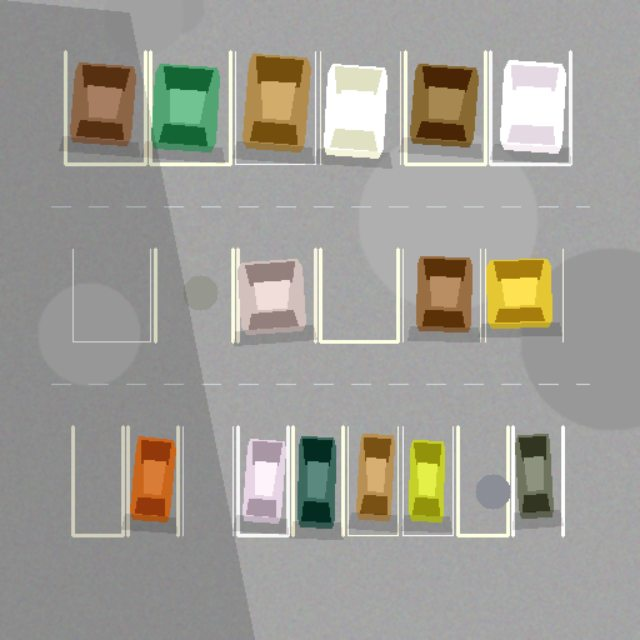space-empty: (72, 249, 150, 341), (320, 249, 398, 341), (155, 249, 232, 341), (73, 426, 123, 535), (183, 426, 233, 535), (457, 426, 507, 535)
space-occupied: (65, 51, 145, 164), (150, 51, 230, 164), (235, 51, 315, 164), (320, 51, 400, 164), (405, 51, 485, 164), (490, 51, 570, 164), (402, 249, 480, 341), (238, 249, 315, 341), (485, 249, 562, 341), (127, 426, 177, 535), (237, 426, 287, 535), (293, 426, 343, 535), (347, 426, 397, 535), (403, 426, 453, 535), (513, 426, 563, 535)
